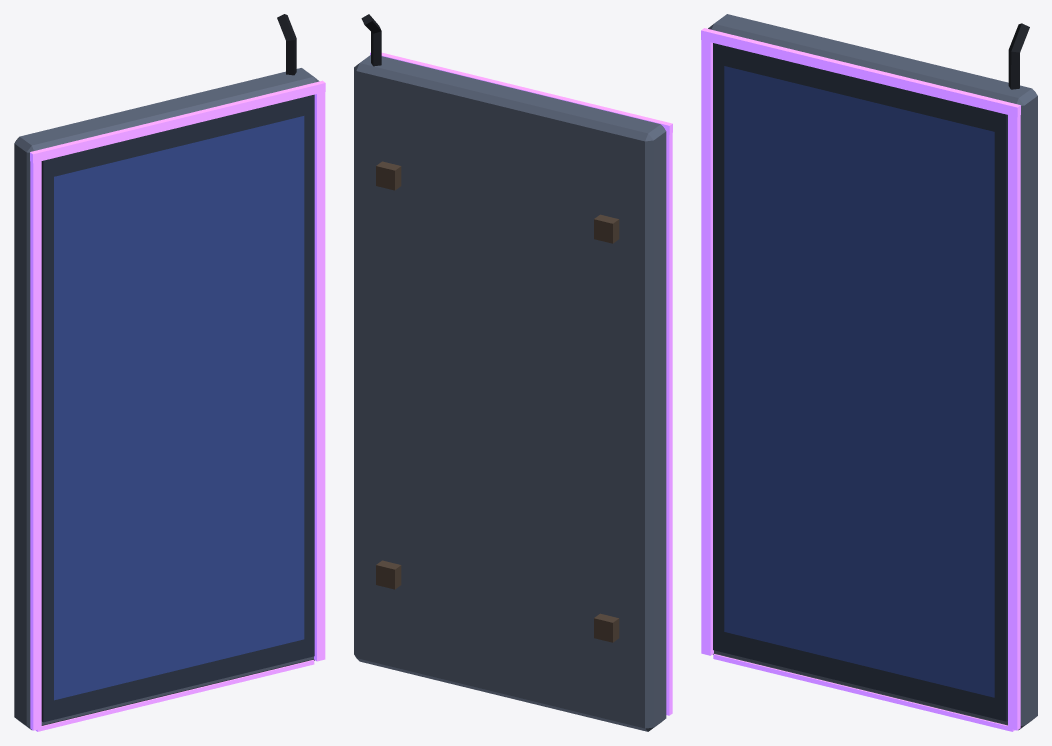
File: city_ad_screen.glb
3 views of the same model, side by side, from view 1: azimuth 30°, elevation 25°; view 2: azimuth 150°, elevation 25°; view 3: azimuth 330°, elevation 25° (orthographic). The views are drawn at different scales.
Visible parts, largest first — view 1: screen, bezel, led_edge, housing, conduit; view 2: housing, led_edge, wall_arm.002, wall_arm, wall_arm.001, wall_arm.003, conduit; view 3: screen, bezel, led_edge, housing, conduit.
Boxes of the visible parts, box(x1,y1,x2,y2) form: screen: box(54, 116, 304, 700); bezel: box(41, 94, 314, 722); led_edge: box(30, 80, 325, 731); housing: box(14, 68, 319, 729); conduit: box(277, 14, 296, 75); housing: box(354, 55, 666, 731); led_edge: box(370, 52, 672, 715); wall_arm.002: box(594, 214, 619, 243); wall_arm: box(594, 613, 619, 642); wall_arm.001: box(376, 560, 401, 589); wall_arm.003: box(376, 161, 401, 190); conduit: box(361, 14, 381, 66); screen: box(724, 66, 994, 697); bezel: box(713, 43, 1007, 721); led_edge: box(701, 28, 1020, 731); housing: box(708, 14, 1037, 730); conduit: box(1008, 23, 1029, 89).
Size of the model in its own units: 1.1 by 2.29 by 0.182.
